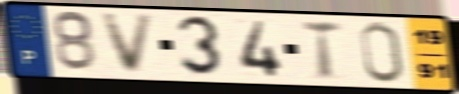0: (358, 20, 407, 86)
3: (173, 14, 228, 79)
4: (237, 18, 285, 80)
8: (49, 9, 98, 75)
T: (299, 19, 344, 82)
V: (98, 13, 158, 76)
